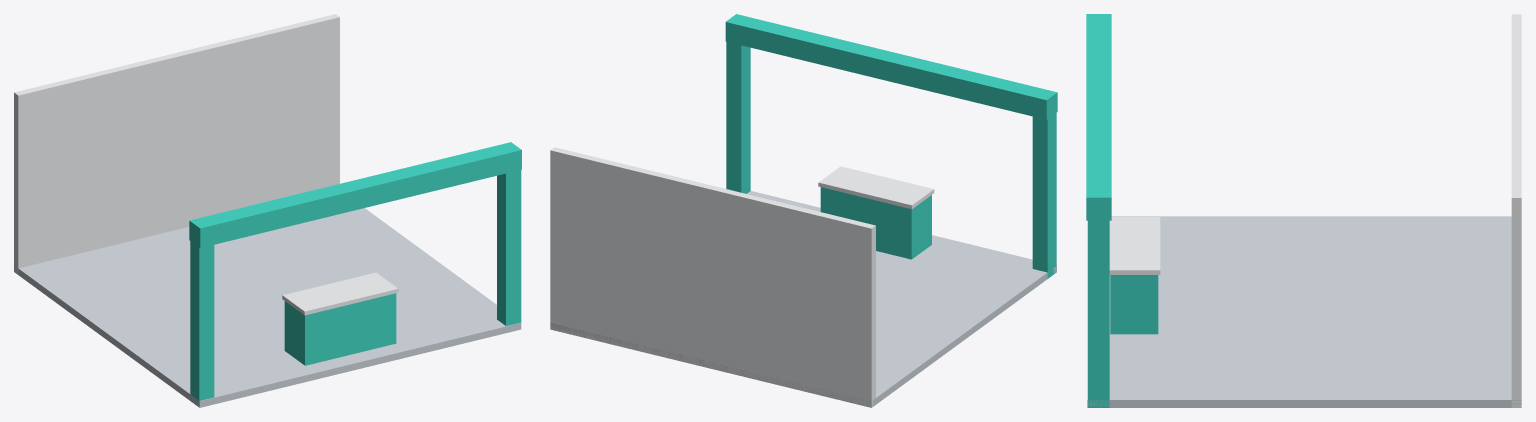
3 views of the same model, side by side, from view 1: azimuth 30°, elevation 25°; view 2: azimuth 150°, elevation 25°; view 3: azimuth 270°, elevation 25° (orthographic). The views are drawn at different scales.
Visible parts, largest first — view 1: Exhibition Booth Concept; view 2: Exhibition Booth Concept; view 3: Exhibition Booth Concept.
Boxes of the visible parts, x1,y1,x2,y2 form: Exhibition Booth Concept: (14, 14, 521, 407); Exhibition Booth Concept: (550, 14, 1057, 407); Exhibition Booth Concept: (1086, 14, 1521, 407).
Bounding box in the file's own units: 6 × 3.2 × 6.02.
